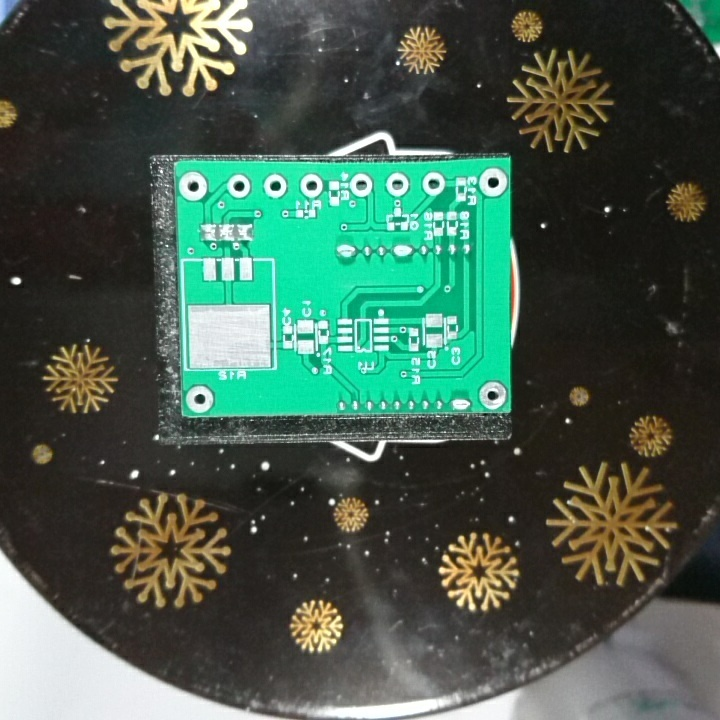F: (477, 167, 510, 200), (183, 383, 216, 416), (177, 169, 208, 203), (478, 380, 508, 412), (384, 169, 412, 199), (224, 172, 252, 200), (261, 172, 288, 200), (420, 170, 448, 197), (348, 169, 374, 198), (298, 171, 323, 200)
P: (334, 241, 361, 264), (391, 242, 414, 261), (448, 396, 474, 412)
